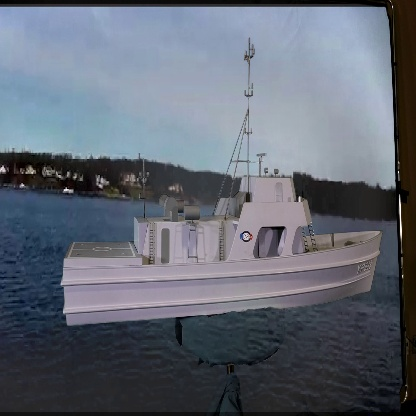YP689: (60, 33, 383, 331)
